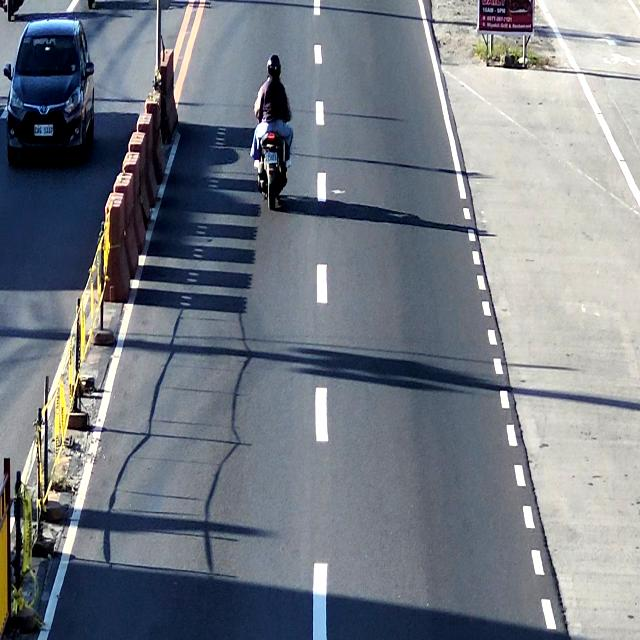License-Plate: (262, 150, 278, 162)
Motorcycle: (252, 54, 292, 214)
